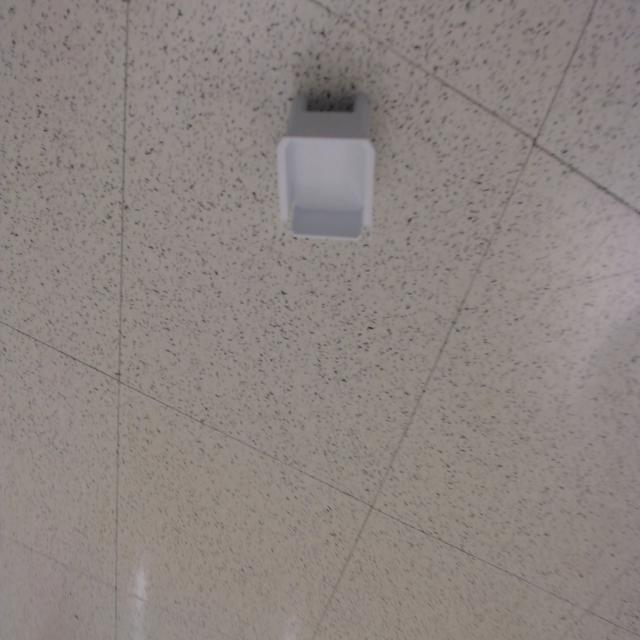wbox: (275, 86, 376, 246)
